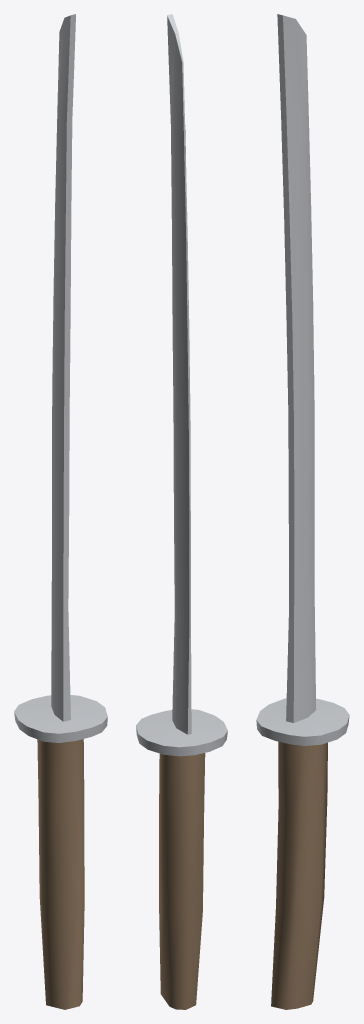
The model's file is weapon_echo_blade_6.glb.
3 views of the same model, side by side, from view 1: azimuth 30°, elevation 25°; view 2: azimuth 210°, elevation 25°; view 3: azimuth 330°, elevation 25° (orthographic). The views are drawn at different scales.
Visible parts, largest first — view 1: echo_blade_6; view 2: echo_blade_6; view 3: echo_blade_6.
Part boxes in pixels (left/top/right/bottom): echo_blade_6: left=14, top=14, right=107, bottom=1009; echo_blade_6: left=136, top=14, right=227, bottom=1009; echo_blade_6: left=256, top=14, right=349, bottom=1009.
Bounding box in the file's own units: 0.0945 × 1.15 × 0.0926.
